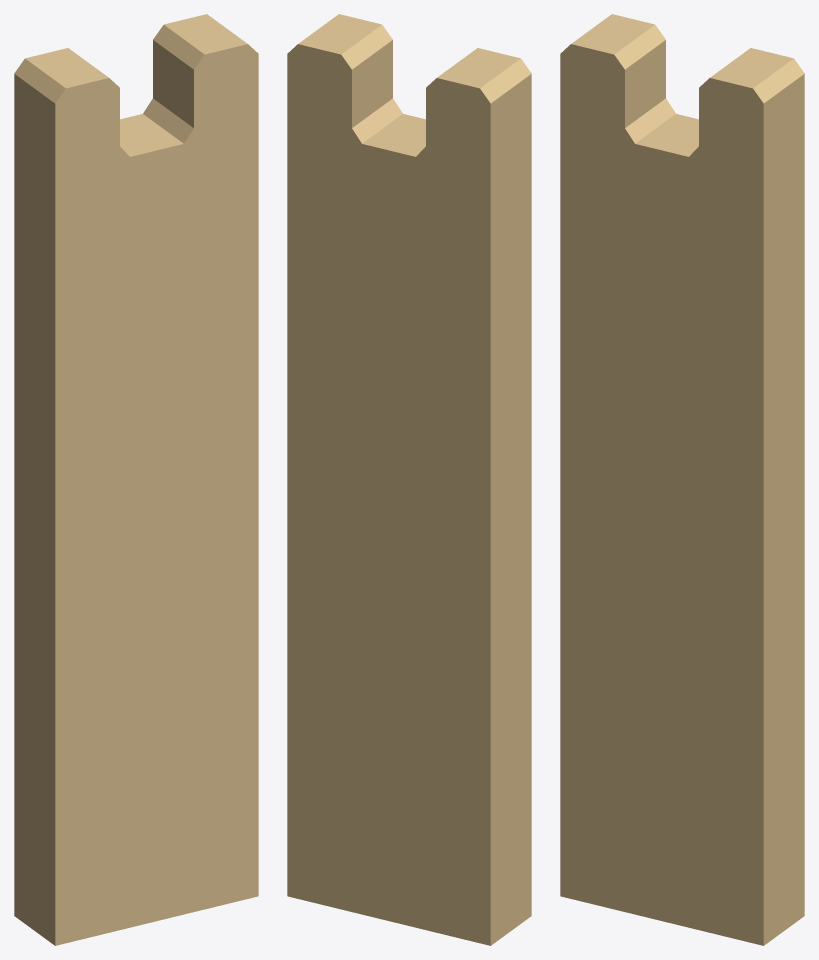
Rendered from Mesh_WallSupport.glb.
3 views of the same model, side by side, from view 1: azimuth 30°, elevation 25°; view 2: azimuth 150°, elevation 25°; view 3: azimuth 330°, elevation 25° (orthographic).
Parts seen in each view (by area): view 1: Cube.062; view 2: Cube.062; view 3: Cube.062.
Part boxes in pixels (x1,y1,x2,y2): Cube.062: [14, 14, 258, 945]; Cube.062: [287, 14, 531, 945]; Cube.062: [560, 14, 804, 945].
Size of the model in its own units: 5.54 by 22.22 by 1.93.
